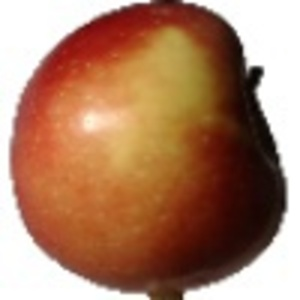maçã braeburn: (9, 4, 293, 292)
